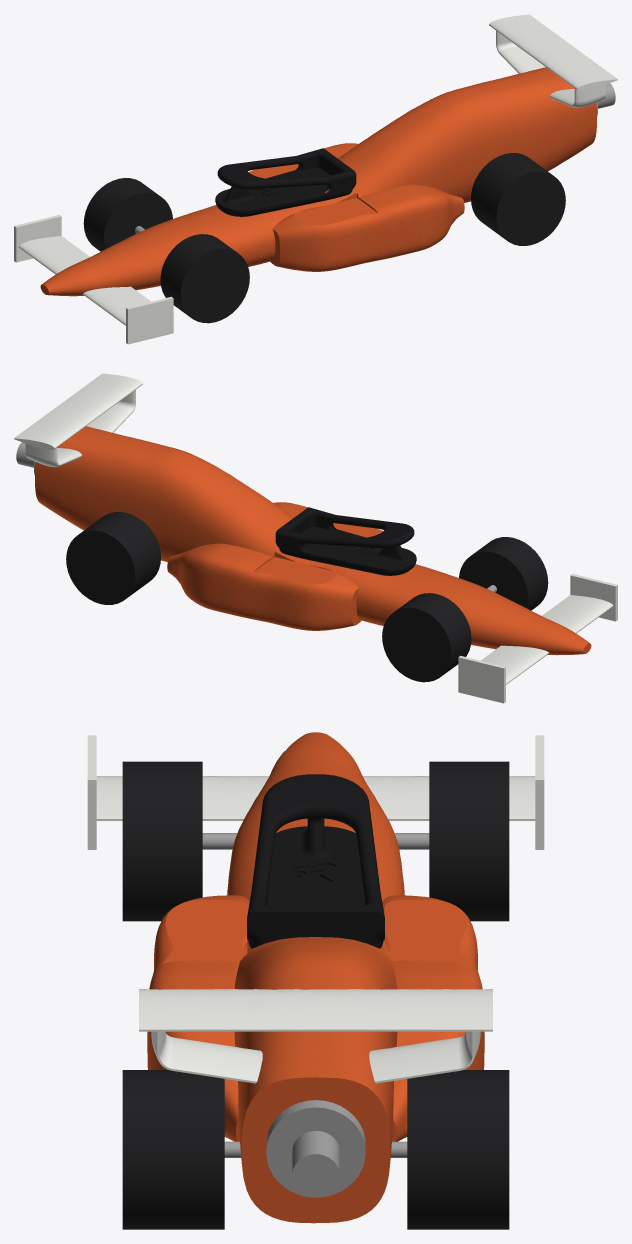
The model's file is concept-v2.glb.
3 renders of one model, top to bottom at view 1: azimuth 30°, elevation 25°; view 2: azimuth 150°, elevation 25°; view 3: azimuth 270°, elevation 25°, orthographic. The views are drawn at different scales.
Parts seen in each view (by area): view 1: Concept V2 Blade; view 2: Concept V2 Blade; view 3: Concept V2 Blade.
Boxes of the visible parts, left/top/right/bottom form: Concept V2 Blade: left=14, top=14, right=617, bottom=344; Concept V2 Blade: left=14, top=373, right=617, bottom=703; Concept V2 Blade: left=87, top=732, right=544, bottom=1229.
Bounding box in the file's own units: 0.236 × 0.0573 × 0.0826.
